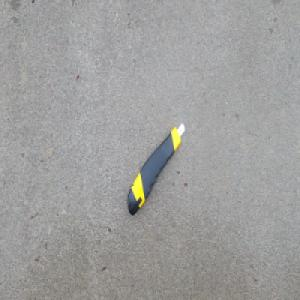Cutter: (126, 120, 186, 217)
